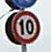limite 10: (12, 10, 39, 43)
